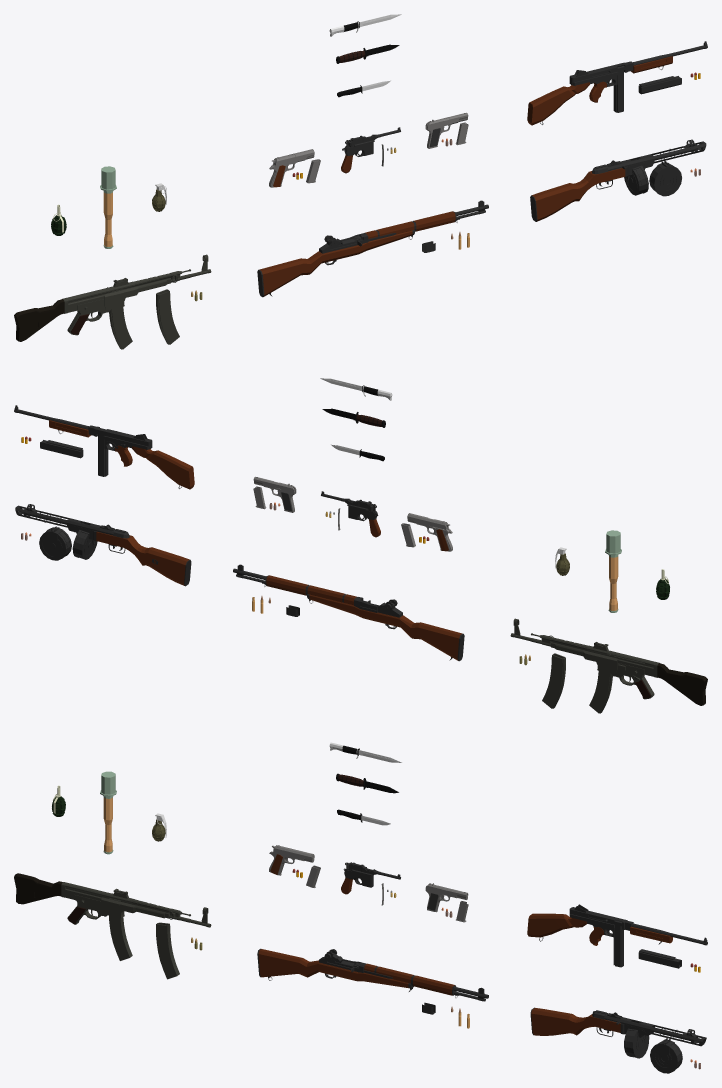
File: classic_weapons_pack.glb
The picture shows the model from 3 angles, top to bottom: view 1: azimuth 30°, elevation 25°; view 2: azimuth 150°, elevation 25°; view 3: azimuth 330°, elevation 25°; orthographic projection.
Visible parts, largest first — view 1: STG 44_28, M1 Garand_8, PPSH 41_23, Thompson M1_33, German Stick Grenade_3, PPSH 41 Magazine_27, Mauser C96_18, STG 44 Maganize_32, M1911_13, TT Pistol_38; view 2: STG 44_28, M1 Garand_8, PPSH 41_23, Thompson M1_33, German Stick Grenade_3, PPSH 41 Magazine_27, Mauser C96_18, STG 44 Maganize_32, M1911_13, TT Pistol_38; view 3: STG 44_28, M1 Garand_8, PPSH 41_23, Thompson M1_33, German Stick Grenade_3, PPSH 41 Magazine_27, STG 44 Maganize_32, Mauser C96_18, M1911_13, TT Pistol_38.
Part boxes in pixels (box(x1,y1,x2,y2)): STG 44_28: box(14, 254, 211, 349); M1 Garand_8: box(257, 200, 488, 297); PPSH 41_23: box(530, 139, 706, 221); Thompson M1_33: box(527, 41, 707, 125); German Stick Grenade_3: box(100, 166, 116, 248); PPSH 41 Magazine_27: box(649, 161, 681, 196); Mauser C96_18: box(341, 127, 400, 173); STG 44 Maganize_32: box(156, 289, 179, 344); M1911_13: box(269, 149, 314, 187); TT Pistol_38: box(425, 112, 468, 148); STG 44_28: box(510, 618, 707, 713); M1 Garand_8: box(233, 564, 464, 661); PPSH 41_23: box(15, 504, 191, 586); Thompson M1_33: box(14, 405, 194, 489); German Stick Grenade_3: box(605, 530, 621, 612); PPSH 41 Magazine_27: box(39, 526, 71, 560); Mauser C96_18: box(321, 491, 380, 537); STG 44 Maganize_32: box(542, 653, 565, 708); M1911_13: box(407, 513, 452, 551); TT Pistol_38: box(253, 476, 296, 512); STG 44_28: box(14, 873, 211, 960); M1 Garand_8: box(257, 948, 488, 1001); PPSH 41_23: box(530, 1007, 706, 1058); Thompson M1_33: box(527, 904, 707, 967); German Stick Grenade_3: box(100, 771, 116, 854); PPSH 41 Magazine_27: box(650, 1038, 682, 1073); STG 44 Maganize_32: box(156, 922, 179, 979); Mauser C96_18: box(341, 862, 400, 894); M1911_13: box(269, 845, 314, 875); TT Pistol_38: box(425, 883, 468, 912).
Size of the model in its own units: 3.33 by 1.27 by 0.1347.
